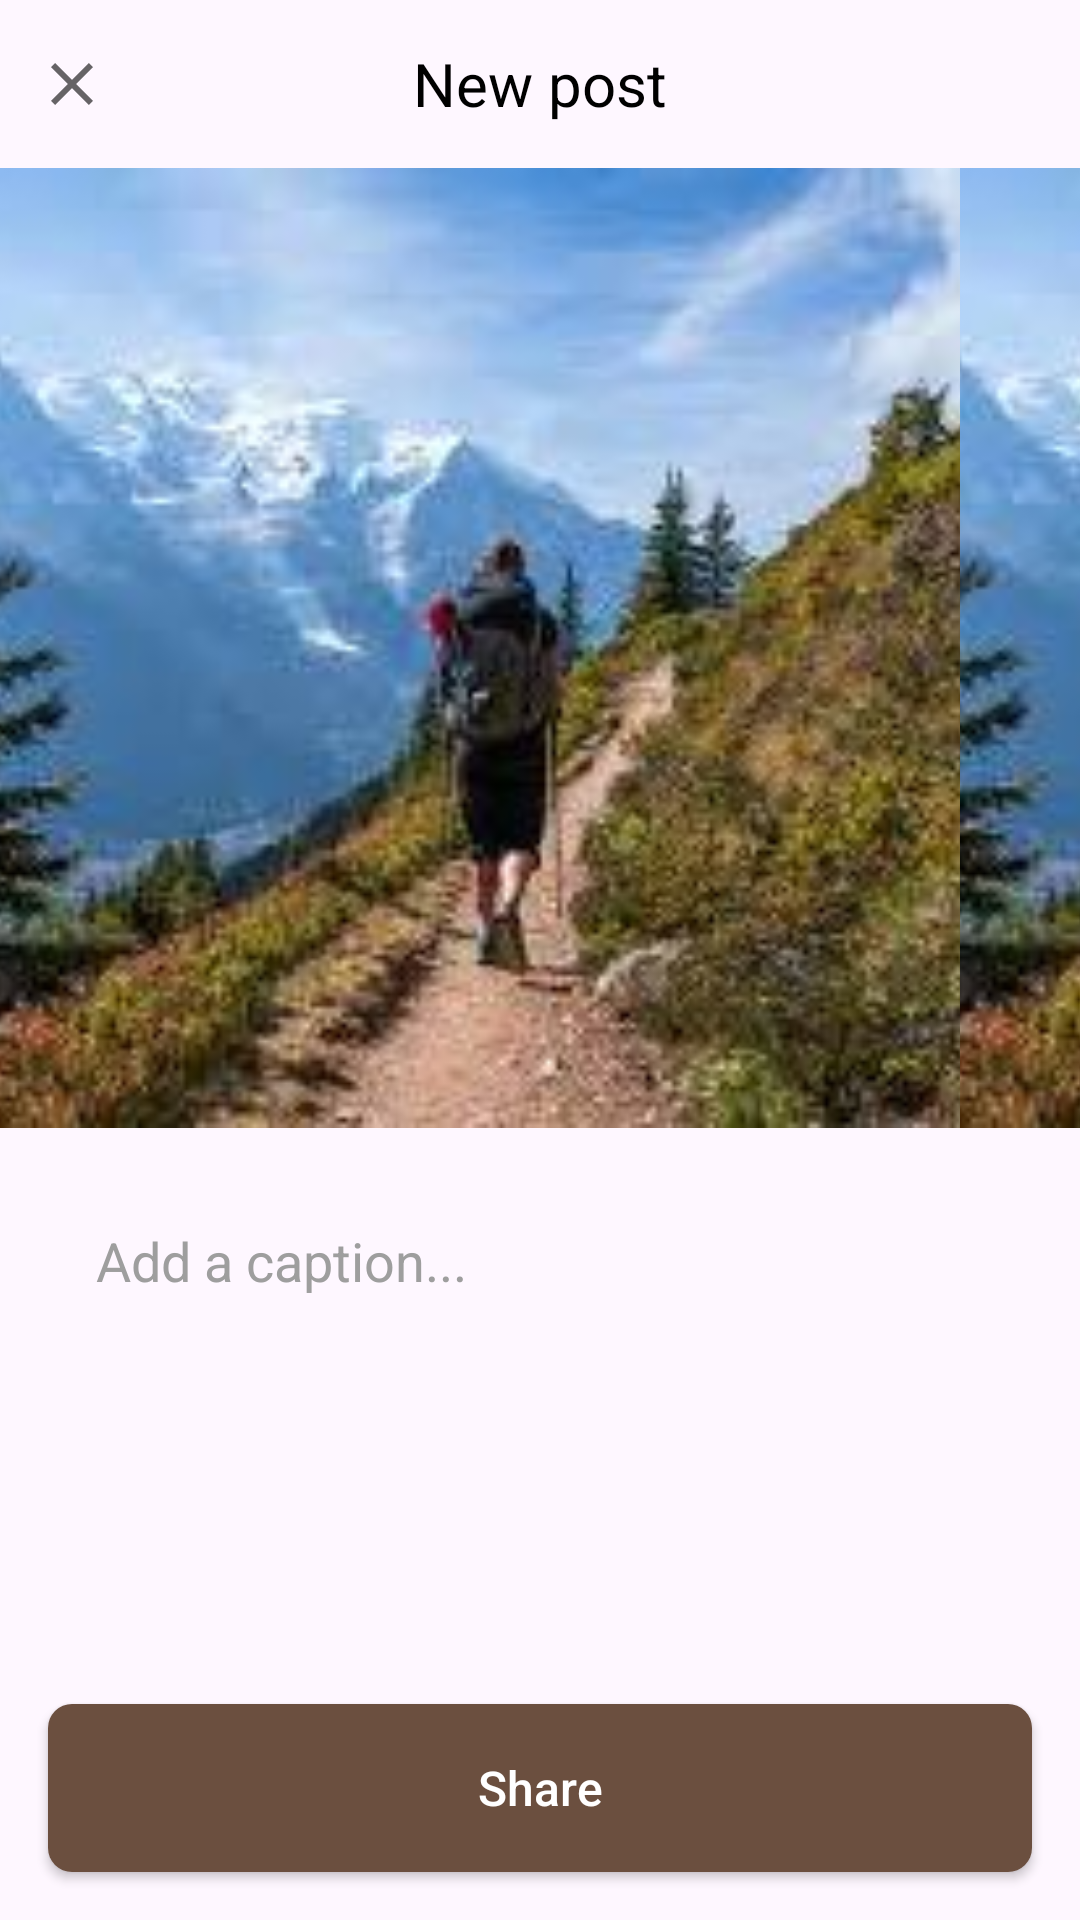

Locate icon controls on the screen. Image size 1080*1920, boxes as (x1=x1, y1=y1, x2=x2, y2=y2).
close: (x1=51, y1=63, x2=93, y2=105)
